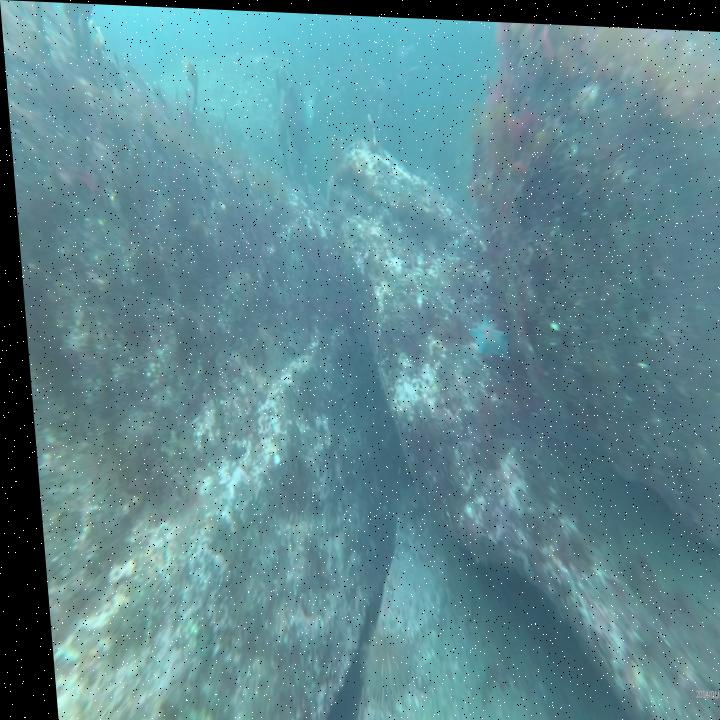echinus: (347, 612, 404, 716)
starfish: (459, 302, 509, 362)
